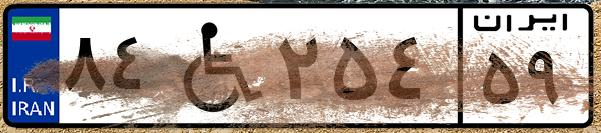2: (270, 28, 330, 110)
4: (385, 28, 445, 110), (110, 28, 158, 98)
5: (330, 28, 385, 110), (475, 38, 525, 113)
8: (57, 26, 110, 100)
9: (525, 38, 570, 115)
ژ (معلولین و جانبازان): (158, 12, 270, 120)
